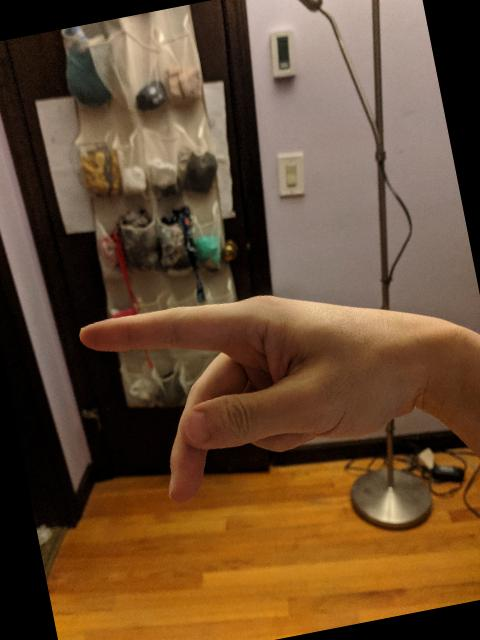P: (69, 251, 454, 519)
